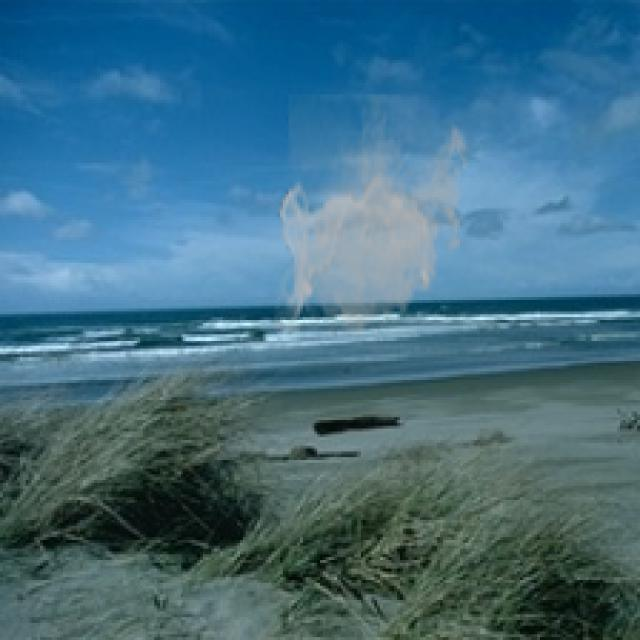smoke: (274, 94, 474, 343)
